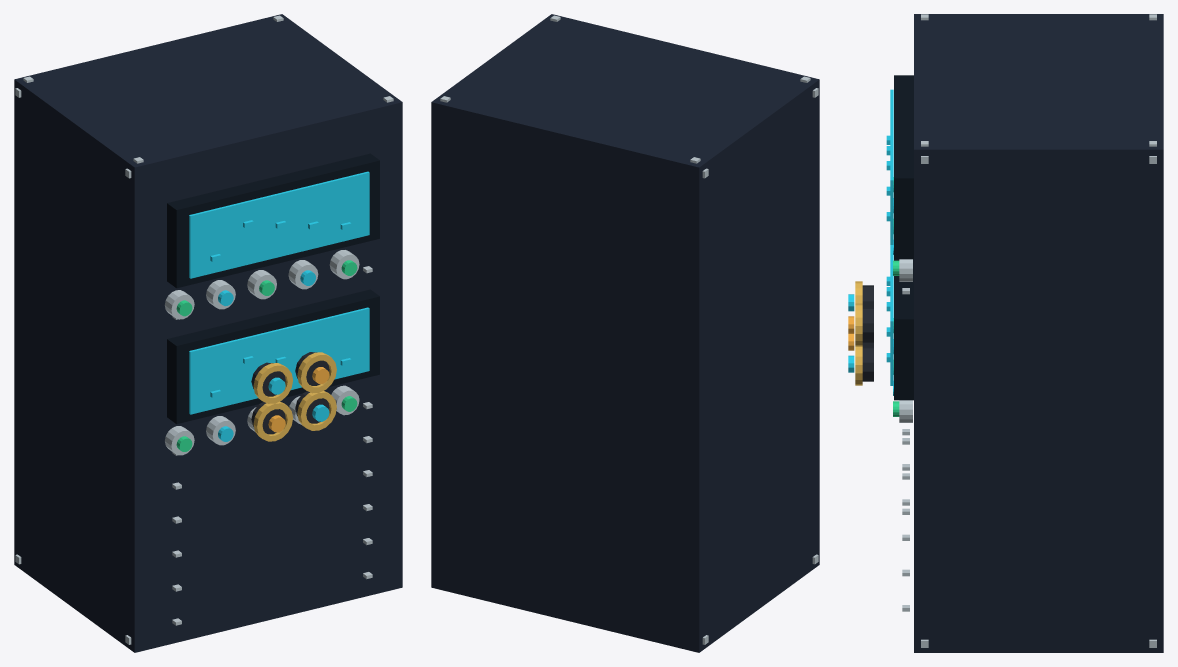
The model's file is 68_L82_Regulated5VControlSupply.fbx.
3 views of the same model, side by side, from view 1: azimuth 30°, elevation 25°; view 2: azimuth 150°, elevation 25°; view 3: azimuth 270°, elevation 25° (orthographic). The views are drawn at different scales.
Parts seen in each view (by area): view 1: Regulated5VControlSupply; view 2: Regulated5VControlSupply; view 3: Regulated5VControlSupply.
Boxes of the visible parts, x1,y1,x2,y2 form: Regulated5VControlSupply: (14, 14, 402, 652); Regulated5VControlSupply: (431, 14, 819, 652); Regulated5VControlSupply: (848, 14, 1163, 652).
Bounding box in the file's own units: 106 × 182 × 102.
